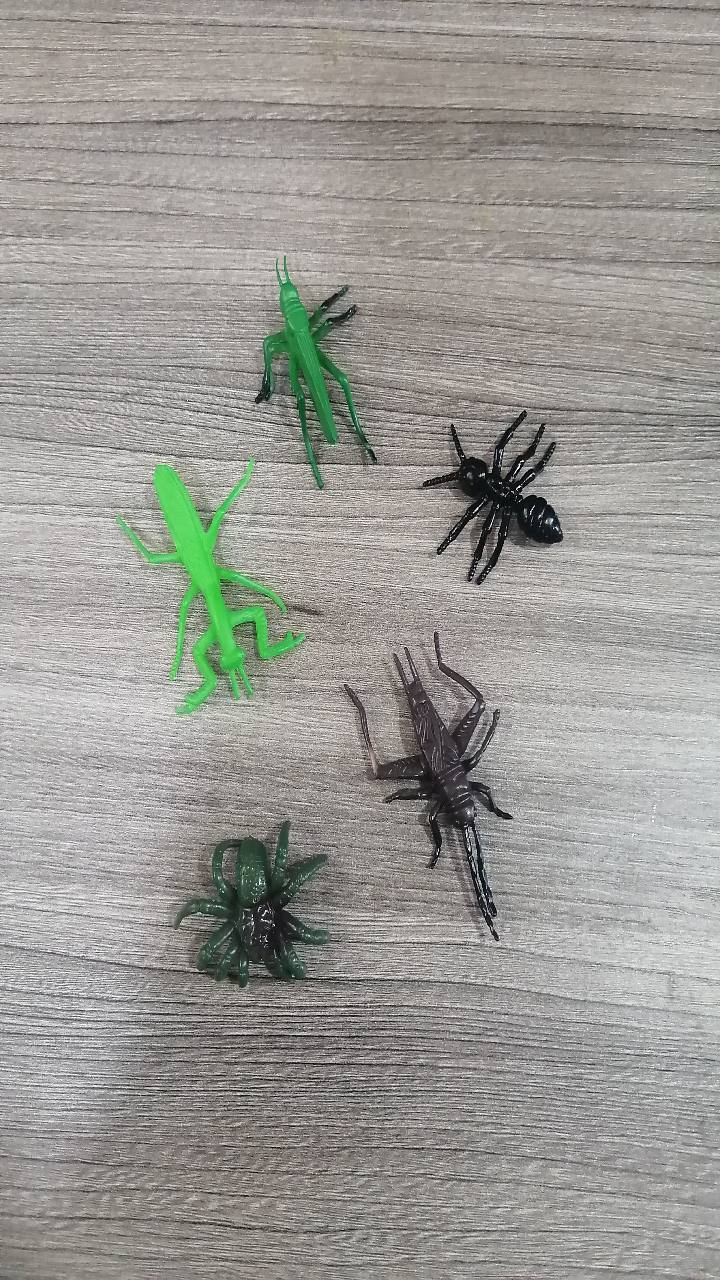intruso: (318, 611, 538, 962), (77, 425, 301, 728), (214, 234, 411, 492), (155, 779, 355, 1023), (408, 375, 591, 611)
